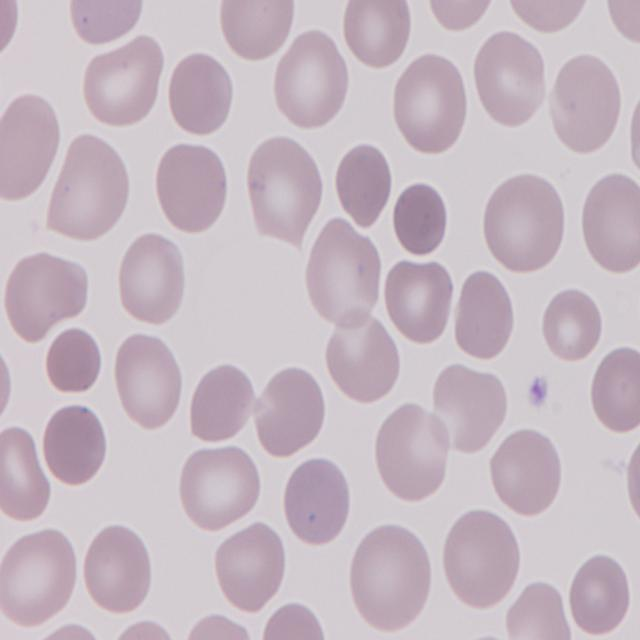RBC: (346, 520, 432, 637), (303, 218, 388, 332), (481, 171, 570, 278), (440, 508, 526, 613), (390, 50, 472, 160), (52, 131, 134, 241), (544, 46, 624, 156), (0, 528, 81, 636), (468, 27, 550, 132), (245, 137, 323, 245), (271, 27, 350, 132), (154, 137, 235, 237), (2, 248, 88, 341), (82, 34, 167, 128), (373, 402, 448, 508), (179, 446, 266, 535), (253, 359, 331, 457), (110, 330, 184, 432), (323, 307, 400, 405), (114, 228, 188, 328), (489, 426, 567, 520), (210, 519, 286, 614), (79, 523, 154, 614), (384, 257, 458, 347), (0, 95, 63, 200), (579, 172, 640, 276), (454, 269, 520, 362), (566, 551, 636, 638), (187, 364, 259, 446), (0, 425, 53, 526), (342, 0, 416, 71), (538, 284, 604, 361), (218, 0, 295, 64), (586, 346, 640, 436), (503, 580, 571, 640), (70, 0, 146, 48), (508, 0, 596, 38), (422, 0, 504, 38), (259, 600, 330, 640), (182, 613, 260, 640), (623, 426, 640, 538), (601, 0, 639, 50), (106, 618, 180, 640), (625, 81, 640, 187), (0, 330, 12, 428), (0, 0, 18, 62)
Spherocyte: (280, 458, 354, 554), (167, 51, 238, 140), (40, 401, 110, 489), (331, 140, 394, 228), (391, 178, 454, 262), (42, 324, 106, 398)
